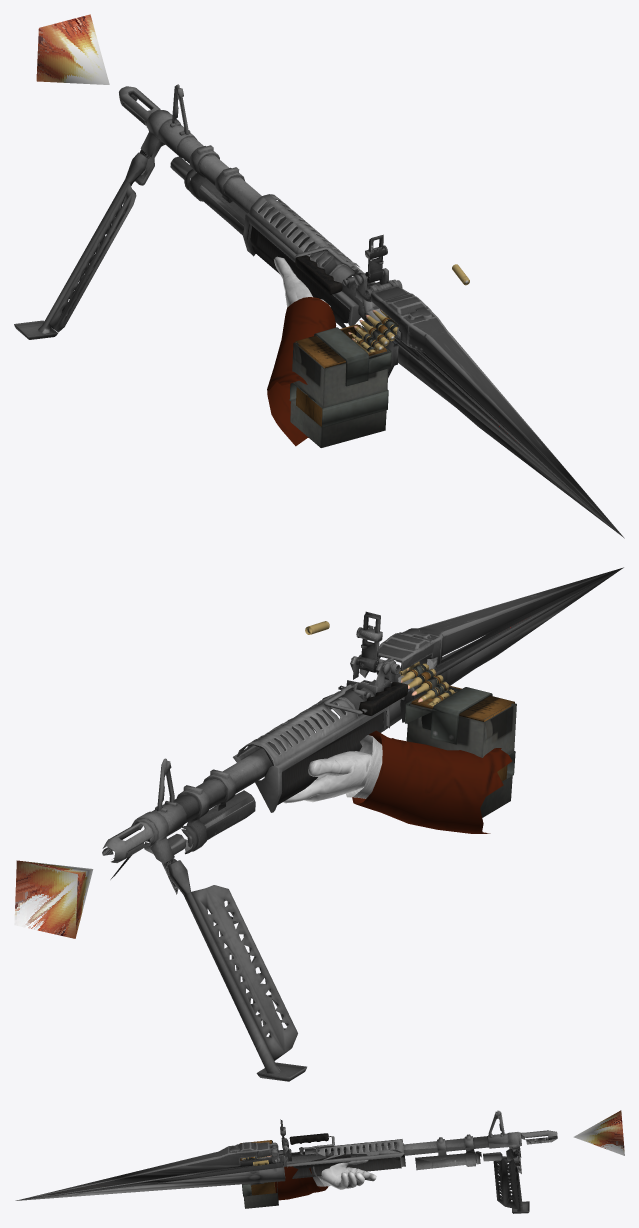
Rendered from frame_5.obj.
The picture shows the model from 3 angles, top to bottom: view 1: azimuth 30°, elevation 25°; view 2: azimuth 150°, elevation 25°; view 3: azimuth 270°, elevation 25°; orthographic projection. The views are drawn at different scales.
Visible parts, largest first — view 1: Mesh.005, PlayerModelMerged.001_PlayerModelMerged, Plane, Mesh.001; view 2: Mesh.005, PlayerModelMerged.001_PlayerModelMerged, Plane, Mesh.001; view 3: Mesh.005, PlayerModelMerged.001_PlayerModelMerged, Plane.
Part boxes in pixels (x1=…): Mesh.005: x1=14, y1=84, x2=624, y2=538; PlayerModelMerged.001_PlayerModelMerged: x1=267, y1=256, x2=336, y2=446; Plane: x1=36, y1=14, x2=109, y2=84; Mesh.001: x1=348, y1=309, x2=398, y2=352; Mesh.005: x1=102, y1=567, x2=623, y2=1081; PlayerModelMerged.001_PlayerModelMerged: x1=283, y1=730, x2=512, y2=833; Plane: x1=14, y1=860, x2=93, y2=938; Mesh.001: x1=400, y1=663, x2=454, y2=705; Mesh.005: x1=15, y1=1110, x2=557, y2=1213; PlayerModelMerged.001_PlayerModelMerged: x1=274, y1=1160, x2=376, y2=1200; Plane: x1=573, y1=1110, x2=624, y2=1155.
Size of the model in its own units: 0.5891 by 0.6121 by 2.53.
